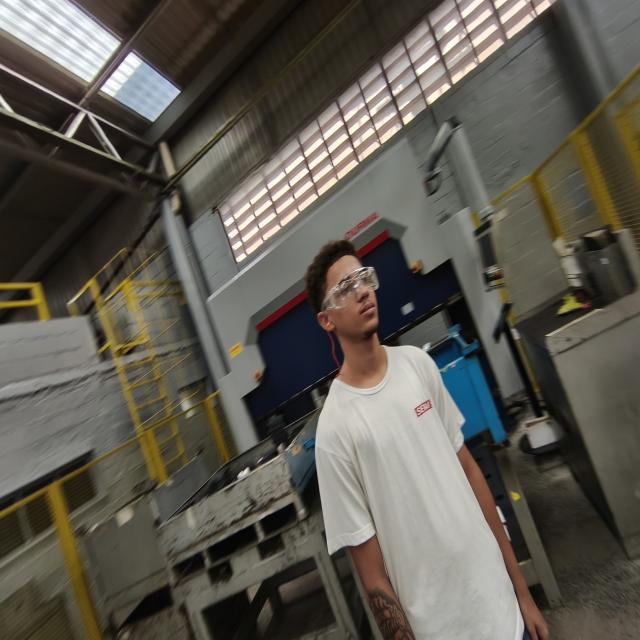oculos-epi: (321, 266, 379, 312)
